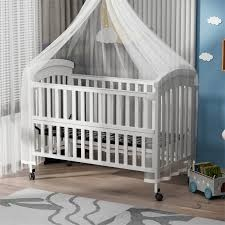crib: (25, 60, 195, 200)
